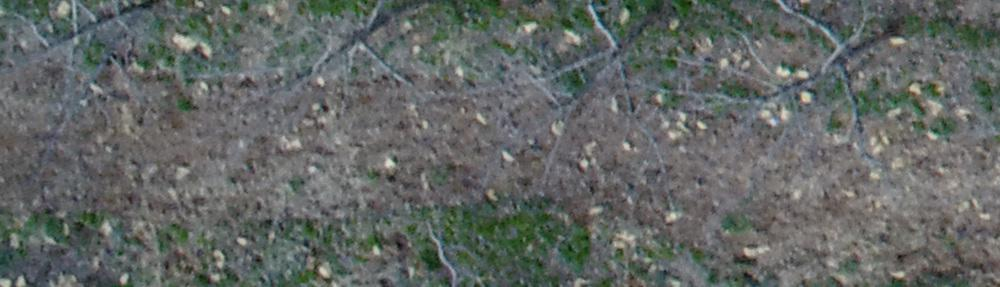apple: (688, 10, 937, 177), (476, 10, 685, 177), (231, 10, 452, 136), (11, 10, 213, 104)
